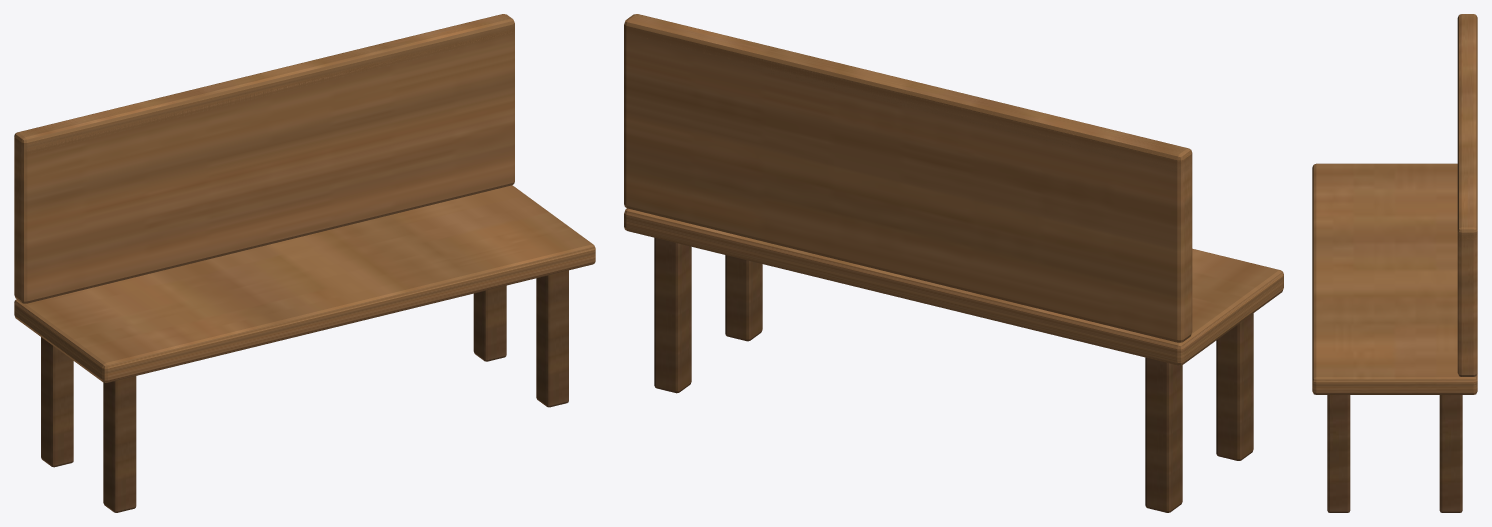
The model's file is bench.glb.
3 renders of one model, left to right at view 1: azimuth 30°, elevation 25°; view 2: azimuth 150°, elevation 25°; view 3: azimuth 270°, elevation 25°, orthographic. The views are drawn at different scales.
Parts seen in each view (by area): view 1: back.003, seat.002, backtop, leg-11.005, leg11.005, leg-1-1.005, leg1-1.005; view 2: back.003, seat.002, leg-1-1.005, leg1-1.005, leg-11.005, backtop, leg11.005; view 3: seat.002, back.003, leg1-1.005, leg11.005.
Part boxes in pixels (x1,y1,x2,y2): back.003: (14,14,514,303); seat.002: (14,185,595,382); backtop: (14,25,514,154); leg-11.005: (103,376,136,512); leg11.005: (536,270,568,407); leg-1-1.005: (41,337,73,467); leg1-1.005: (473,285,506,361); back.003: (624,14,1192,342); seat.002: (624,208,1283,365); leg-1-1.005: (1145,357,1182,512); leg1-1.005: (654,237,691,393); leg-11.005: (1216,313,1253,460); backtop: (624,25,1191,173); leg11.005: (725,255,762,341); seat.002: (1312,163,1477,394); back.003: (1457,14,1477,376); leg1-1.005: (1439,395,1462,512); leg11.005: (1327,395,1350,512).
Bounding box in the file's own units: 1.55 × 0.98 × 0.5.
2 materials, 2 textured.
